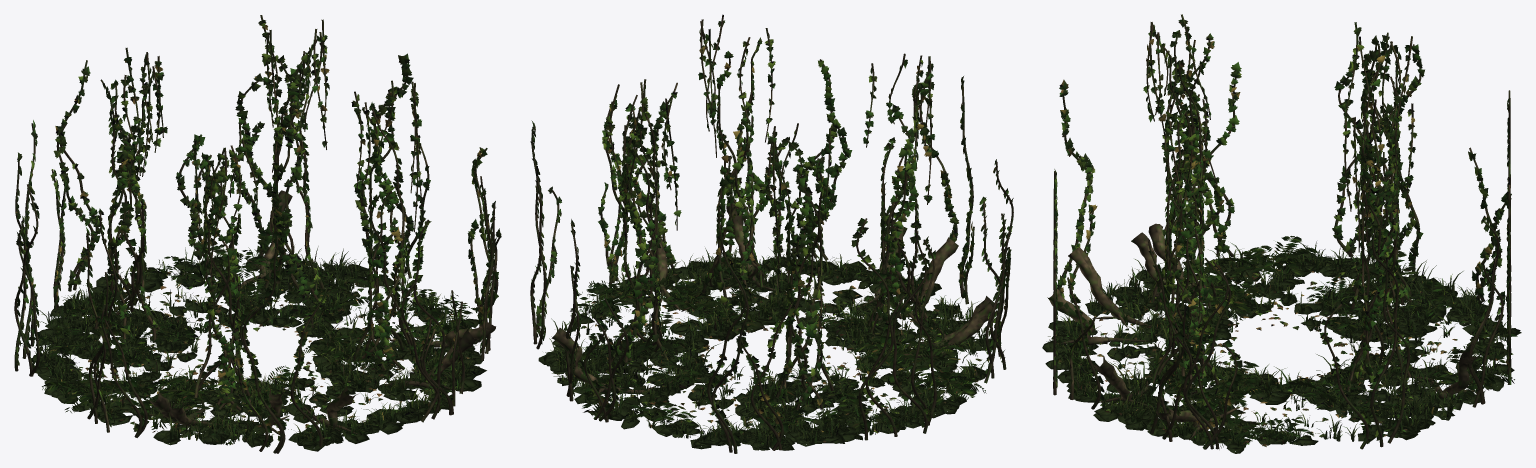
The model's file is SP04_Vegetacao (1).glb.
3 views of the same model, side by side, from view 1: azimuth 30°, elevation 25°; view 2: azimuth 150°, elevation 25°; view 3: azimuth 270°, elevation 25° (orthographic). The views are drawn at different scales.
Visible parts, largest first — view 1: VEG_Veg_31_0, VEG_Veg_32_7, VEG_Veg_33_0, VEG_Veg_32_0, VEG_Veg_31_6, VEG_Veg_32_3, VEG_Veg_31_4, VEG_Veg_32_4, VEG_Veg_32_5, VEG_Veg_31_7, VEG_Veg_32_6, VEG_Veg_31_5 (+5 smaller); view 2: VEG_Veg_32_0, VEG_Veg_32_7, VEG_Veg_31_0, VEG_Veg_33_0, VEG_Veg_31_6, VEG_Veg_31_7, VEG_Veg_32_5, VEG_Veg_32_6, VEG_Veg_32_3, VEG_Veg_31_4, VEG_Veg_31_5, VEG_Veg_32_4 (+5 smaller); view 3: VEG_Veg_32_7, VEG_Veg_31_0, VEG_Veg_32_0, VEG_Veg_33_0, VEG_Veg_31_7, VEG_Veg_31_6, VEG_Veg_31_4, VEG_Veg_32_5, VEG_Veg_32_3, VEG_Veg_31_5, VEG_Veg_32_4, VEG_Veg_32_2 (+5 smaller).
Part boxes in pixels (x1,y1,x2,y2): VEG_Veg_31_0: [86, 80, 501, 453]; VEG_Veg_32_7: [134, 256, 486, 443]; VEG_Veg_33_0: [32, 277, 343, 451]; VEG_Veg_32_0: [14, 15, 410, 376]; VEG_Veg_31_6: [149, 94, 454, 434]; VEG_Veg_32_3: [175, 162, 460, 336]; VEG_Veg_31_4: [42, 307, 322, 447]; VEG_Veg_32_4: [183, 20, 430, 215]; VEG_Veg_32_5: [15, 191, 234, 383]; VEG_Veg_31_7: [240, 86, 501, 392]; VEG_Veg_32_6: [15, 54, 167, 272]; VEG_Veg_31_5: [85, 130, 327, 358]; VEG_Veg_32_0: [530, 79, 936, 453]; VEG_Veg_32_7: [538, 256, 903, 437]; VEG_Veg_31_0: [536, 14, 1013, 383]; VEG_Veg_33_0: [690, 278, 993, 450]; VEG_Veg_31_6: [593, 33, 995, 396]; VEG_Veg_31_7: [551, 20, 785, 394]; VEG_Veg_32_5: [630, 298, 948, 446]; VEG_Veg_32_6: [716, 129, 936, 353]; VEG_Veg_32_3: [531, 237, 710, 419]; VEG_Veg_31_4: [816, 196, 1009, 402]; VEG_Veg_31_5: [863, 59, 1013, 280]; VEG_Veg_32_4: [530, 85, 681, 331]; VEG_Veg_32_7: [1042, 338, 1514, 453]; VEG_Veg_31_0: [1053, 14, 1369, 449]; VEG_Veg_32_0: [1334, 22, 1511, 447]; VEG_Veg_33_0: [1048, 252, 1521, 345]; VEG_Veg_31_7: [1068, 127, 1480, 449]; VEG_Veg_31_6: [1047, 104, 1474, 393]; VEG_Veg_31_4: [1056, 159, 1317, 340]; VEG_Veg_32_5: [1309, 146, 1520, 360]; VEG_Veg_32_3: [1254, 275, 1514, 443]; VEG_Veg_31_5: [1054, 19, 1241, 221]; VEG_Veg_32_4: [1320, 109, 1510, 349]; VEG_Veg_32_2: [1286, 328, 1505, 443].
Bounding box in the file's own units: 29.98 × 19.53 × 29.49.
Materials: 3 (3 with a texture image).
